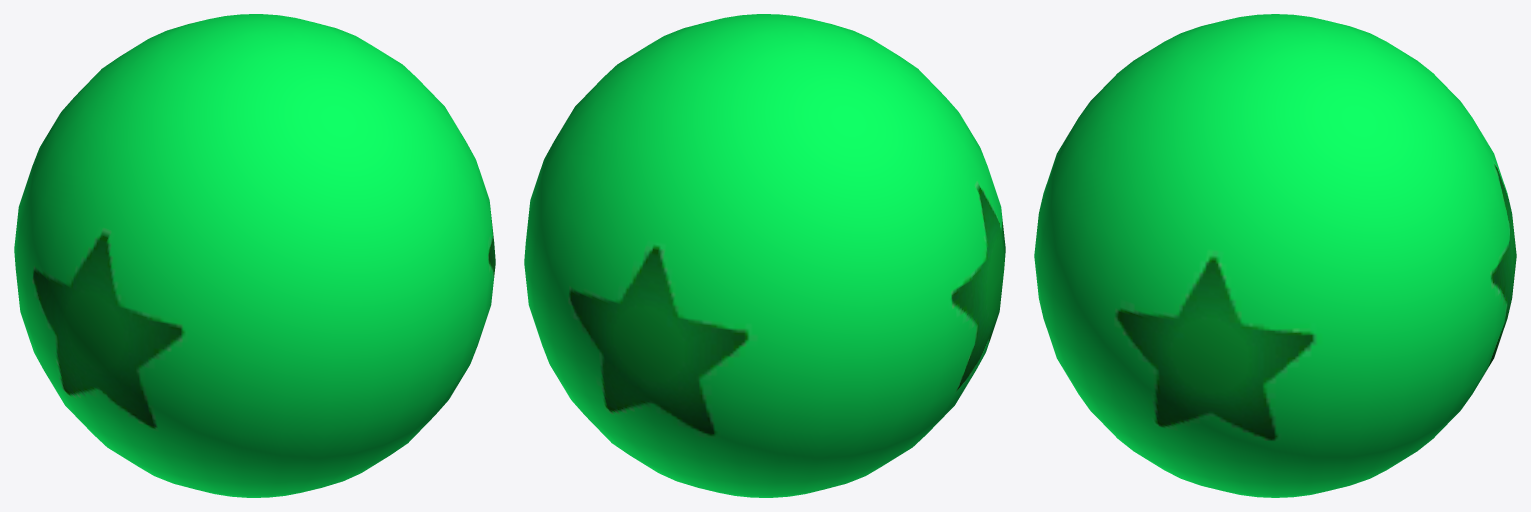
Rendered from Skin_Green_002_00_07_2526.fbx.
3 views of the same model, side by side, from view 1: azimuth 30°, elevation 25°; view 2: azimuth 150°, elevation 25°; view 3: azimuth 270°, elevation 25° (orthographic).
Parts seen in each view (by area): view 1: Ball_Skin_Star_G_002; view 2: Ball_Skin_Star_G_002; view 3: Ball_Skin_Star_G_002.
Boxes of the visible parts, x1,y1,x2,y2 form: Ball_Skin_Star_G_002: (14,14,495,497); Ball_Skin_Star_G_002: (524,14,1005,497); Ball_Skin_Star_G_002: (1034,14,1516,497).
Bounding box in the file's own units: 0.9904 × 1 × 0.9904.
1 material, 1 textured.
